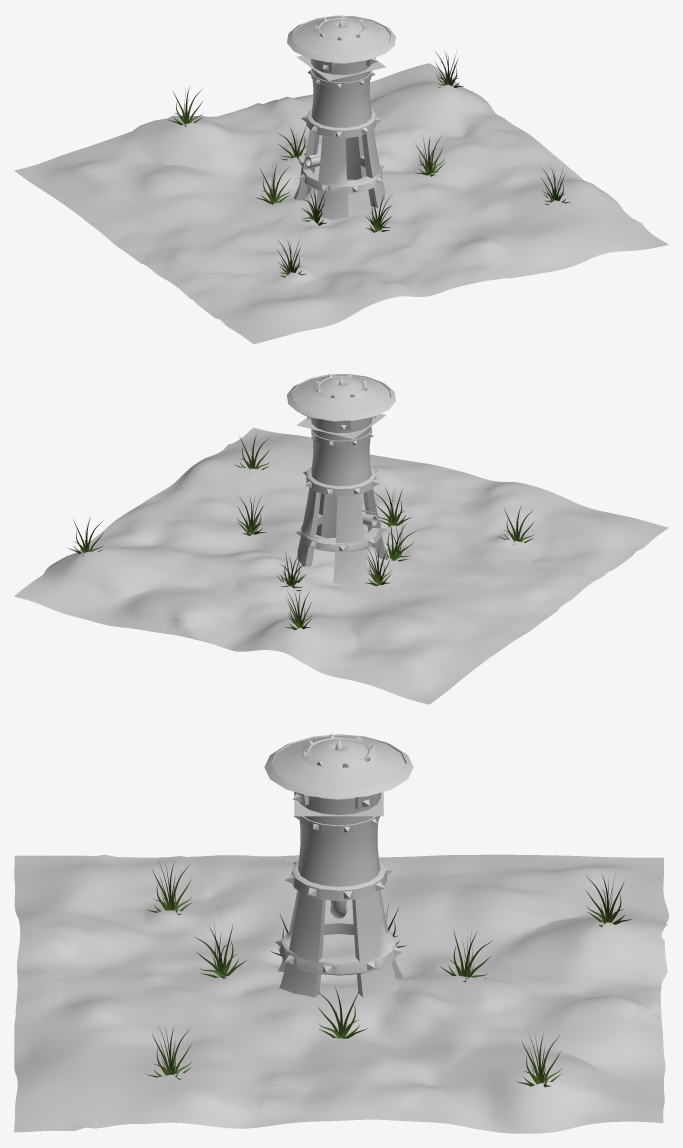
The picture shows the model from 3 angles, top to bottom: view 1: azimuth 30°, elevation 25°; view 2: azimuth 150°, elevation 25°; view 3: azimuth 270°, elevation 25°; orthographic projection. The views are drawn at different scales.
Parts seen in each view (by area): view 1: Ground, Tower; view 2: Ground, Tower; view 3: Ground, Tower, Grass9, Water, Grass4.
Part boxes in pixels (left/top/right/bottom): Ground: left=14, top=63, right=668, bottom=344; Tower: left=287, top=14, right=395, bottom=219; Ground: left=14, top=427, right=668, bottom=704; Tower: left=287, top=373, right=395, bottom=583; Ground: left=14, top=854, right=668, bottom=1133; Tower: left=264, top=733, right=413, bottom=997; Grass9: left=318, top=987, right=367, bottom=1038; Water: left=294, top=792, right=383, bottom=816; Grass4: left=194, top=925, right=246, bottom=977.
Size of the model in its own units: 232 by 99.78 by 229.
